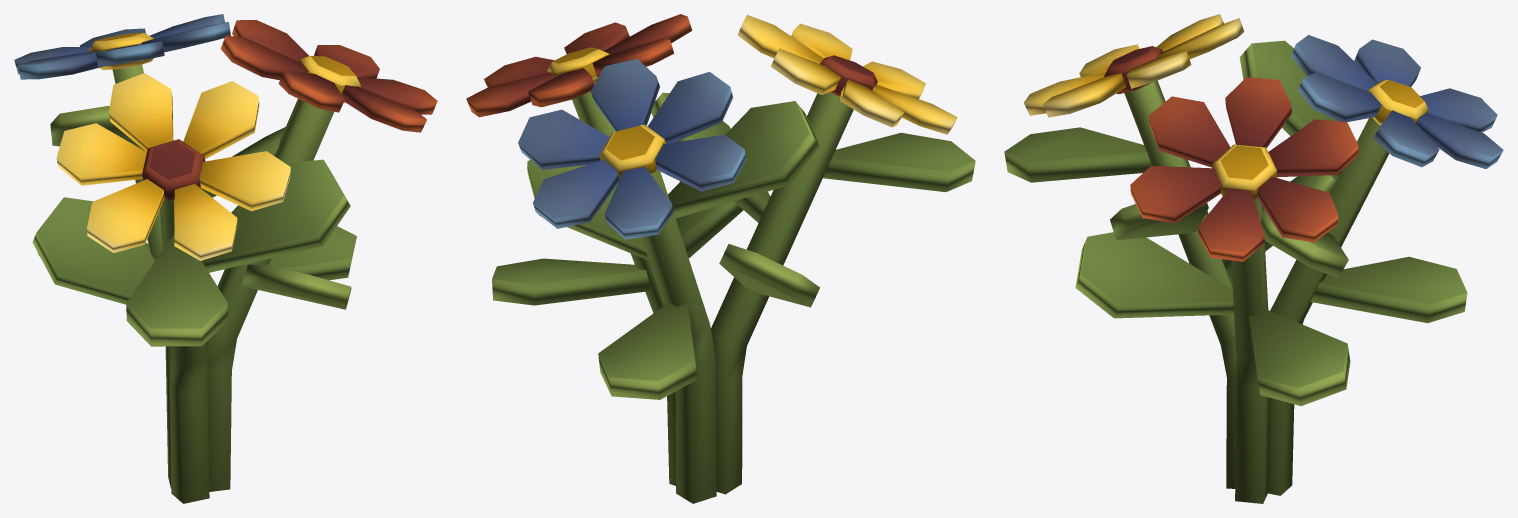
Rendered from flower_bunch_all_colours.fbx.
3 renders of one model, left to right at view 1: azimuth 30°, elevation 25°; view 2: azimuth 150°, elevation 25°; view 3: azimuth 270°, elevation 25°, orthographic.
Parts seen in each view (by area): view 1: flower_bunch_all_colours; view 2: flower_bunch_all_colours; view 3: flower_bunch_all_colours.
Part boxes in pixels (left/top/right/bottom): flower_bunch_all_colours: left=14, top=14, right=437, bottom=503; flower_bunch_all_colours: left=466, top=14, right=975, bottom=503; flower_bunch_all_colours: left=1004, top=14, right=1503, bottom=503.
Size of the model in its own units: 80.65 by 83.97 by 87.25.
